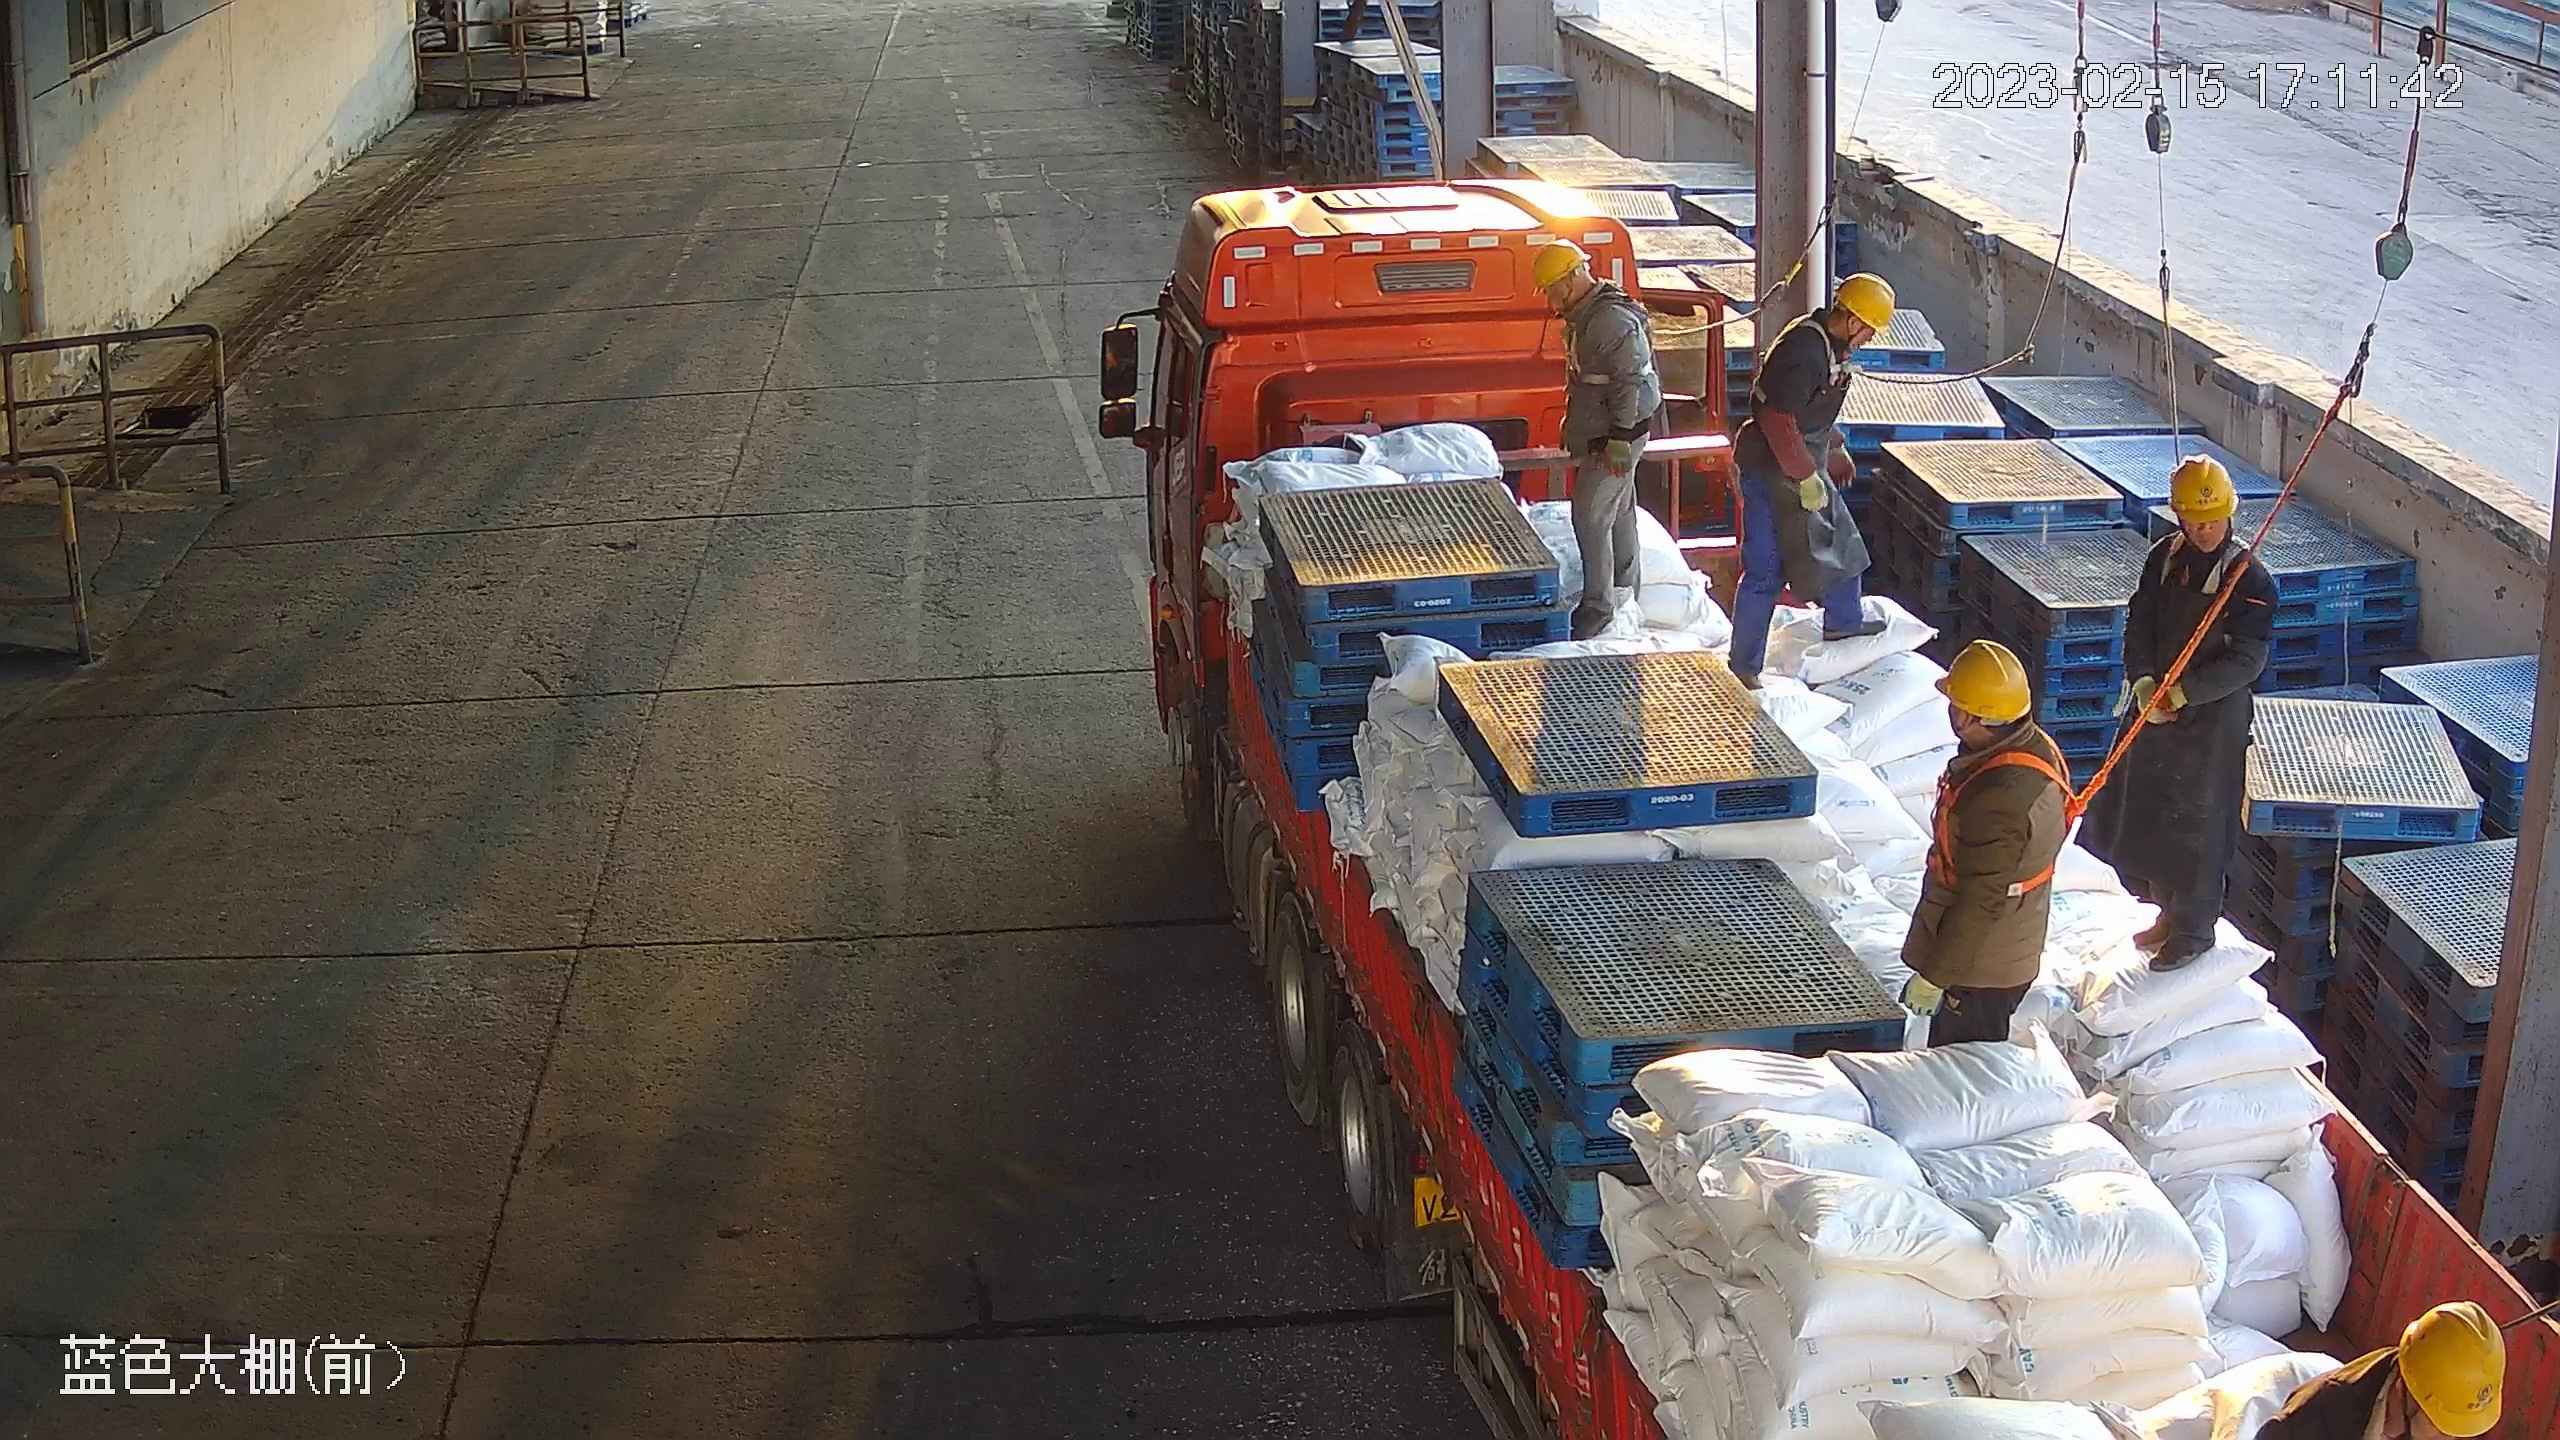belt: (1920, 733, 2110, 896), (1747, 308, 1869, 415), (2156, 532, 2256, 600), (1559, 327, 1617, 388)
head: (2261, 1300, 2503, 1440), (1930, 635, 2066, 833), (2129, 456, 2274, 640), (1751, 267, 1891, 430), (1532, 244, 1654, 366)
helmet: (2400, 1301, 2506, 1435), (1934, 640, 2032, 718), (2166, 452, 2240, 528), (1834, 274, 1898, 332), (1534, 240, 1591, 291)
people: (2120, 454, 2278, 976), (1896, 636, 2078, 1045), (1732, 269, 1906, 681), (1530, 239, 1664, 635)
truck: (1097, 176, 2549, 1438)
